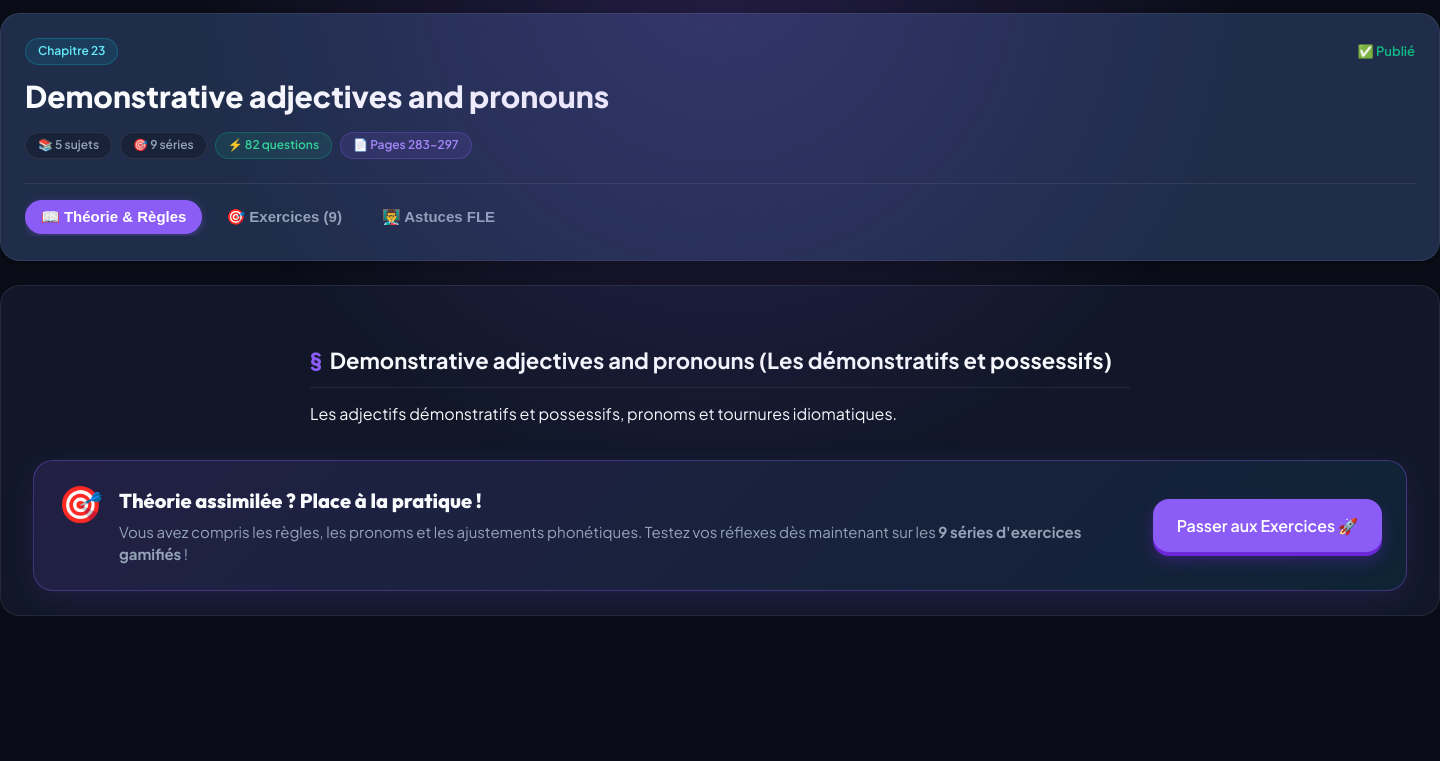
it: ChapterPage Component › affiche la théorie, les 9 séries d exercices et les astuces FLE pour le chapitre 23 (Demonstrative adjectives and pronouns)
Expected: the heading "Demonstrative adjectives and pronouns" is shown, [25, 77, 609, 115]
Expected: the text "Les adjectifs démonstratifs et possessifs, pronoms et tournures idiomatiques" is shown, [310, 403, 897, 424]
Note: Passage à l'onglet Exercices (9)
What coordinates should you click on to do the following:
click the tab "🎯 Exercices (9)"
I would click on:
 (284, 217)
Its box is [210, 200, 358, 234].
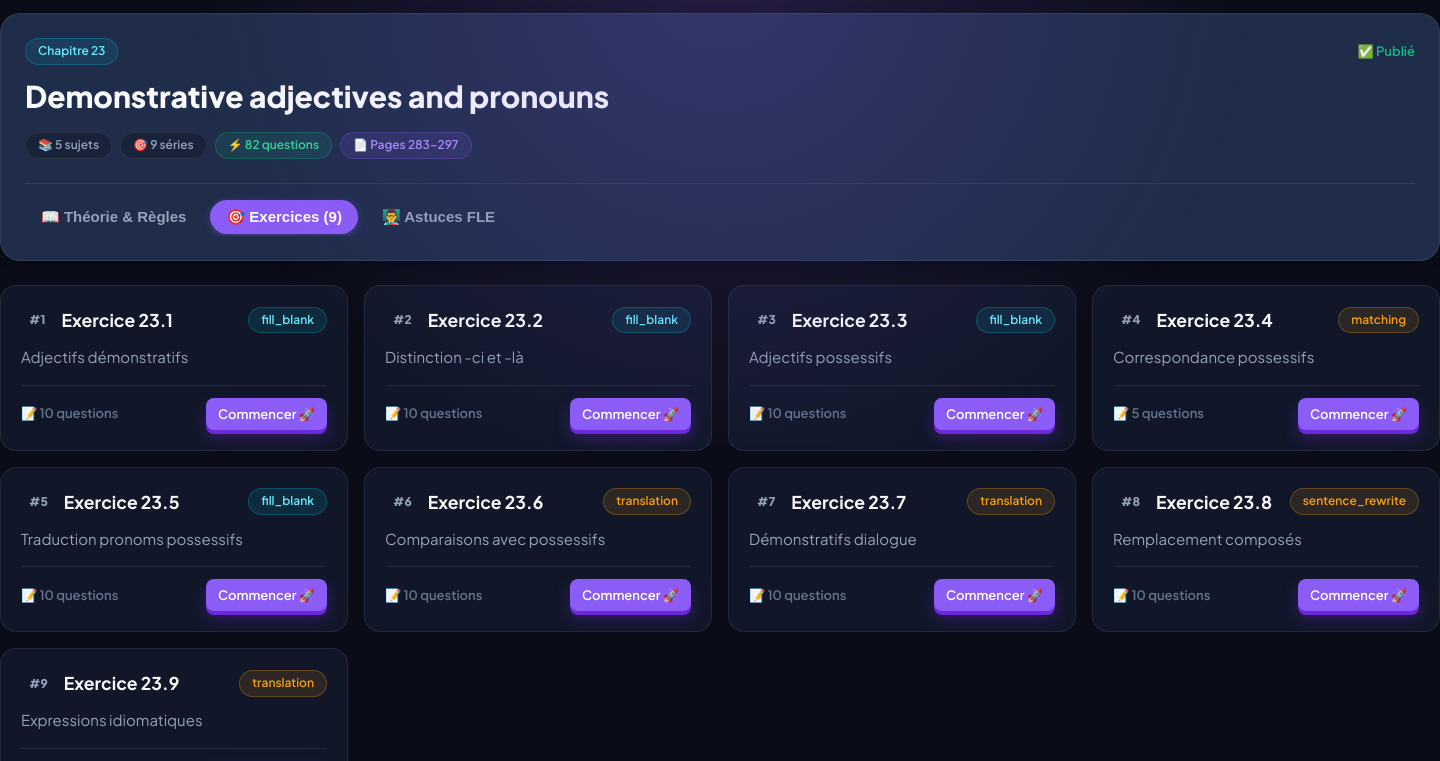
Now the heading "Exercice 23.1" is shown, box [62, 306, 173, 334]
Now the heading "Exercice 23.4" is shown, box [1156, 306, 1273, 334]
Now the heading "Exercice 23.9" is shown, box [64, 669, 179, 697]
Note: Passage à l'onglet Astuces FLE
What coordinates should you click on to do the following:
click the tab "👨‍🏫 Astuces FLE"
I would click on:
 (438, 217)
Its box is [366, 200, 511, 234].
(page scrolled)
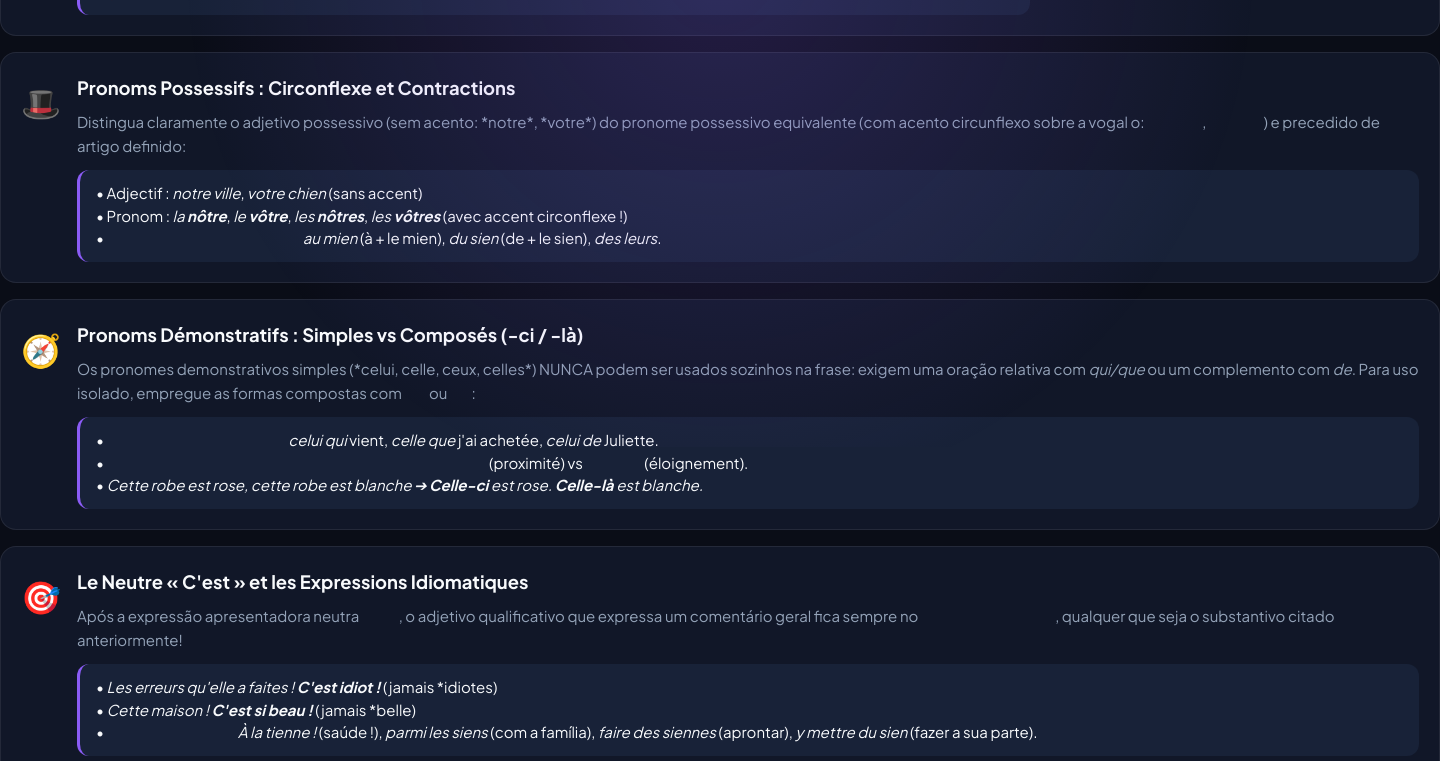
Now the heading "Pronoms Possessifs : Circonflexe et Contractions" is shown, box [77, 76, 515, 99]
Now the heading "Pronoms Démonstratifs : Simples vs Composés (-ci / -là)" is shown, box [77, 323, 584, 346]
Now the heading "Le Neutre « C'est » et les Expressions Idiomatiques" is shown, box [77, 570, 528, 593]
